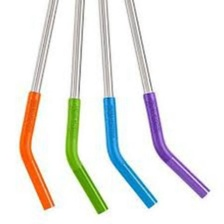drinking_straw: (119, 0, 213, 202), (93, 0, 160, 212), (62, 0, 112, 219), (13, 0, 63, 213)
